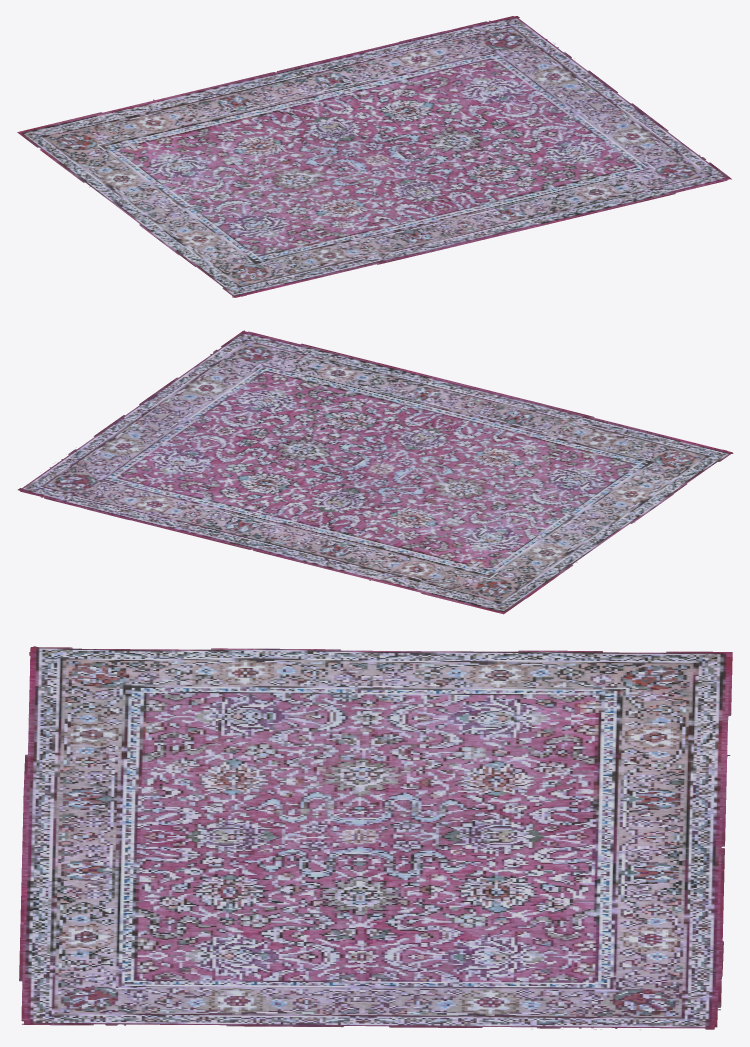
File: tepih2.fbx
The picture shows the model from 3 angles, top to bottom: view 1: azimuth 30°, elevation 25°; view 2: azimuth 150°, elevation 25°; view 3: azimuth 270°, elevation 25°; orthographic projection. The views are drawn at different scales.
Parts seen in each view (by area): view 1: tepih; view 2: tepih; view 3: tepih.
Part boxes in pixels (bbox=[...]): tepih: bbox=[17, 16, 731, 297]; tepih: bbox=[18, 330, 733, 614]; tepih: bbox=[19, 646, 732, 1030].
Size of the model in its own units: 2.33 by 1.84 by 0.005.
1 material, 1 textured.
